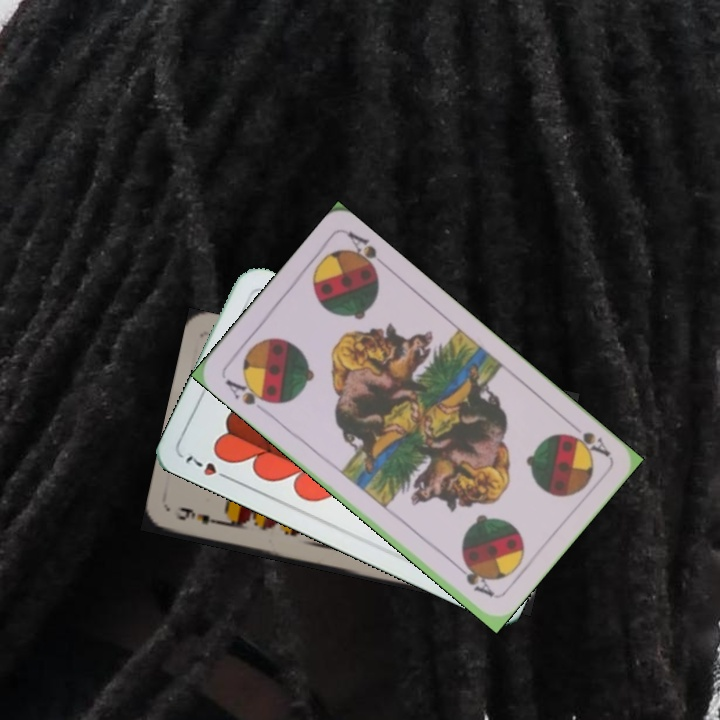E9: (170, 503, 228, 528)
H7: (181, 451, 235, 483)
SA: (559, 416, 613, 461), (221, 374, 276, 408)
